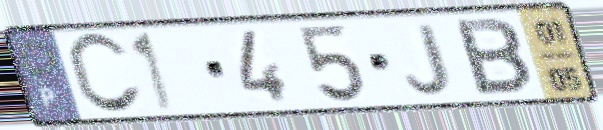1: (128, 27, 177, 115)
4: (237, 27, 291, 106)
5: (293, 23, 369, 104)
B: (452, 16, 536, 99)
C: (63, 30, 147, 118)
J: (403, 20, 455, 98)
